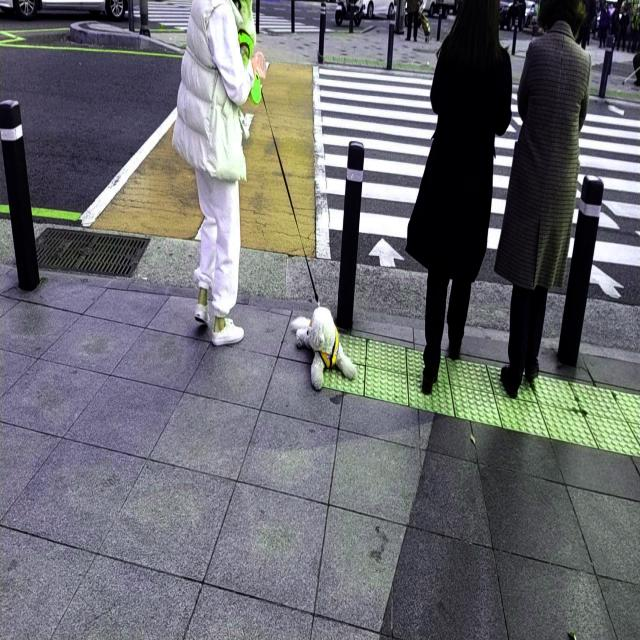Leashed_Dog: (194, 76, 357, 392)
